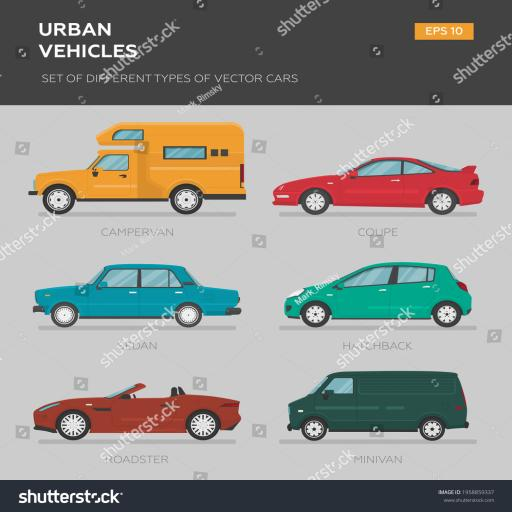Sedan-sDLz: (34, 265, 240, 327), (273, 158, 483, 214)
coupe: (34, 384, 240, 439)
hatchback: (285, 262, 471, 343), (288, 371, 468, 440)
van: (29, 123, 245, 214)
